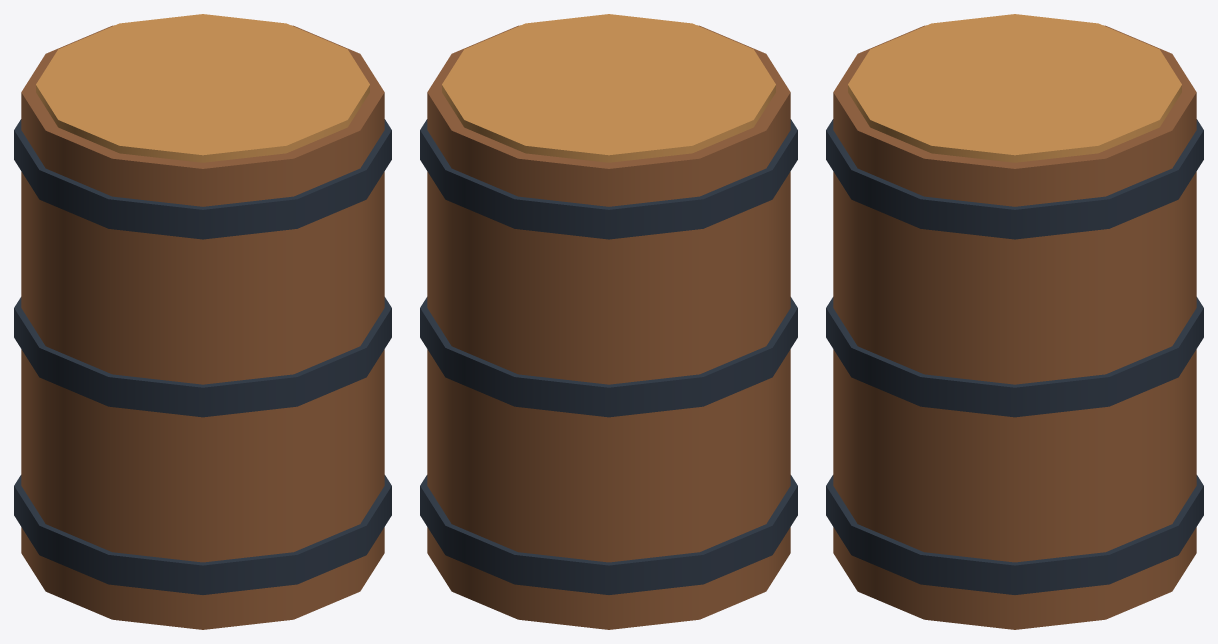
File: barrel.gltf
The picture shows the model from 3 angles, left to right: view 1: azimuth 30°, elevation 25°; view 2: azimuth 150°, elevation 25°; view 3: azimuth 270°, elevation 25°; orthographic projection.
Visible parts, largest first — view 1: Barrel; view 2: Barrel; view 3: Barrel.
Part boxes in pixels (x1,y1,x2,y2): Barrel: [14, 14, 391, 629]; Barrel: [420, 14, 797, 629]; Barrel: [826, 14, 1203, 629].
Bounding box in the file's own units: 0.52 × 0.7115 × 0.52.
